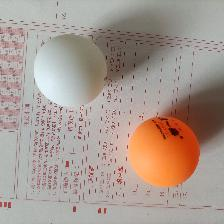WhiteBall: (32, 33, 106, 108)
YellowBall: (127, 115, 200, 186)
